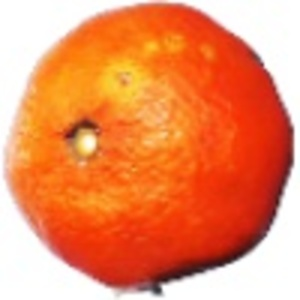tangerina: (2, 1, 296, 298)
